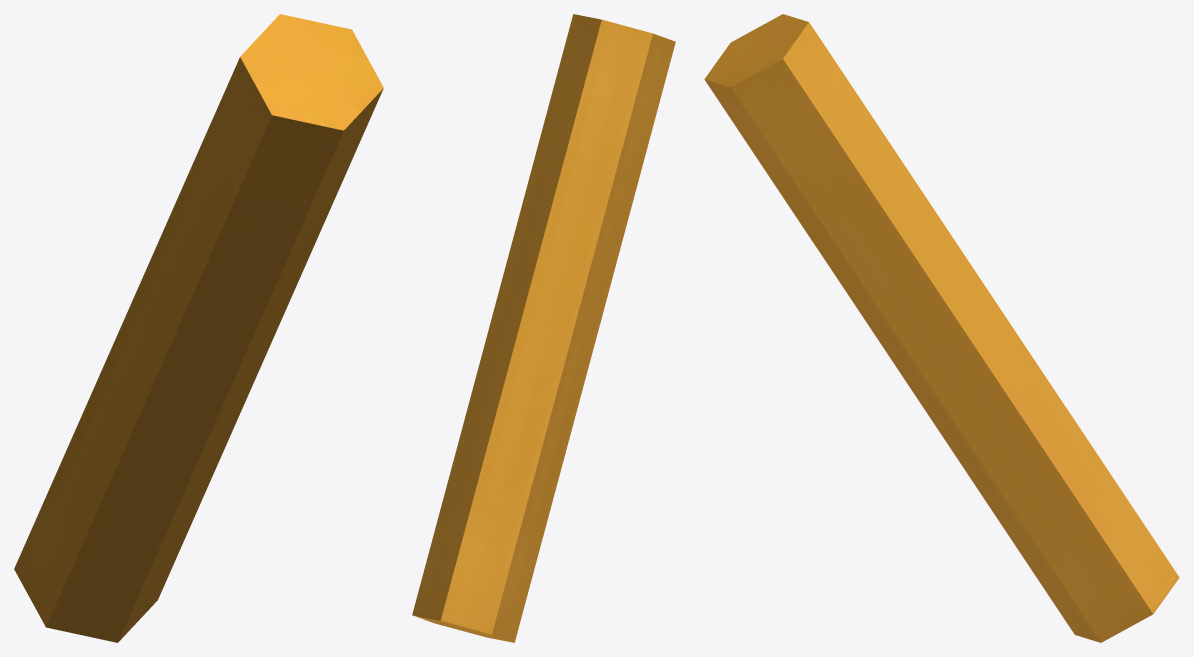
File: life-tool-spyglass.glb
3 renders of one model, left to right at view 1: azimuth 30°, elevation 25°; view 2: azimuth 150°, elevation 25°; view 3: azimuth 270°, elevation 25°, orthographic. The views are drawn at different scales.
Visible parts, largest first — view 1: life-tool-spyglass; view 2: life-tool-spyglass; view 3: life-tool-spyglass.
Boxes of the visible parts, x1,y1,x2,y2 form: life-tool-spyglass: [14, 14, 383, 642]; life-tool-spyglass: [412, 14, 675, 642]; life-tool-spyglass: [704, 14, 1179, 642].
Bounding box in the file's own units: 0.0104 × 0.0663 × 0.0466.
Materials: 1 (1 with a texture image).
